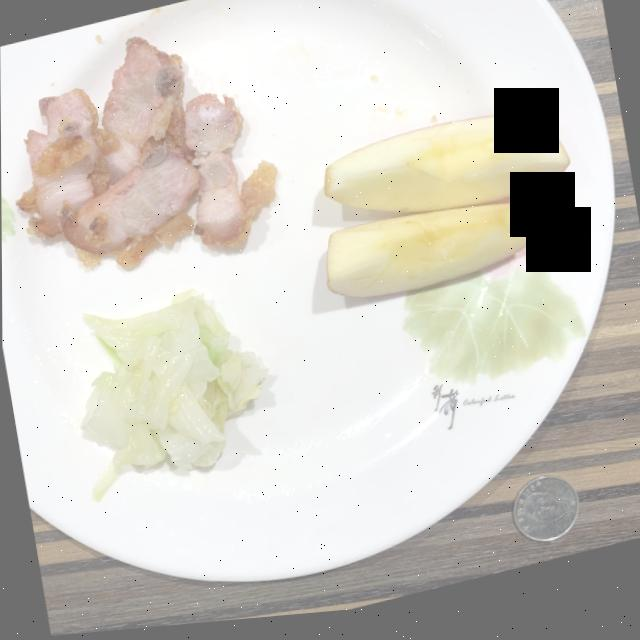apple -sliced-: (324, 122, 570, 304)
cabbage: (80, 293, 266, 502)
coin: (512, 486, 579, 551)
red grilled pork: (16, 39, 276, 271)
